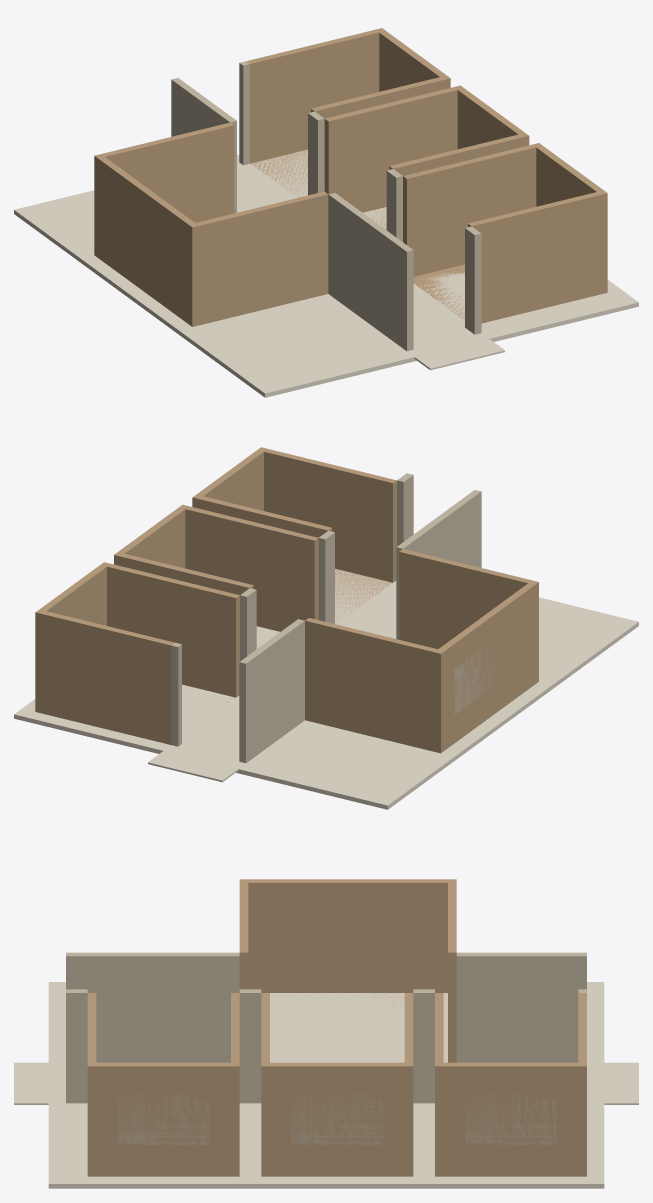
The model's file is wellness-facilities.glb.
3 views of the same model, one above another, from view 1: azimuth 30°, elevation 25°; view 2: azimuth 150°, elevation 25°; view 3: azimuth 270°, elevation 25° (orthographic). The views are drawn at different scales.
Parts seen in each view (by area): view 1: timber, stone, board and batten; view 2: timber, stone, board and batten, glass; view 3: timber, board and batten, stone, glass.
Boxes of the visible parts, x1=… form: timber: x1=94, y1=28, x2=607, y2=326; stone: x1=14, y1=149, x2=638, y2=397; board and batten: x1=171, y1=61, x2=481, y2=351; timber: x1=35, y1=447, x2=538, y2=753; stone: x1=14, y1=569, x2=638, y2=809; board and batten: x1=171, y1=473, x2=481, y2=763; glass: x1=455, y1=650, x2=488, y2=713; timber: x1=87, y1=879, x2=586, y2=1176; board and batten: x1=66, y1=952, x2=586, y2=1103; stone: x1=14, y1=982, x2=638, y2=1188; glass: x1=118, y1=1094, x2=556, y2=1144.
Bounding box in the file's own units: 11 × 3.82 × 14.4.
